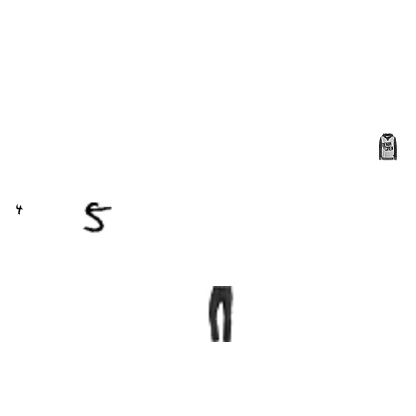4: (12, 202, 26, 216)
5: (74, 195, 116, 237)
Pullover: (373, 133, 401, 161)
Trouser: (191, 286, 247, 342)
